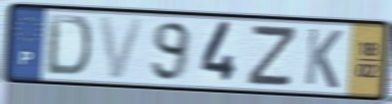4: (199, 19, 243, 89)
9: (149, 20, 194, 82)
D: (44, 12, 94, 79)
K: (302, 25, 344, 91)
V: (96, 14, 148, 82)
Z: (244, 25, 300, 89)
